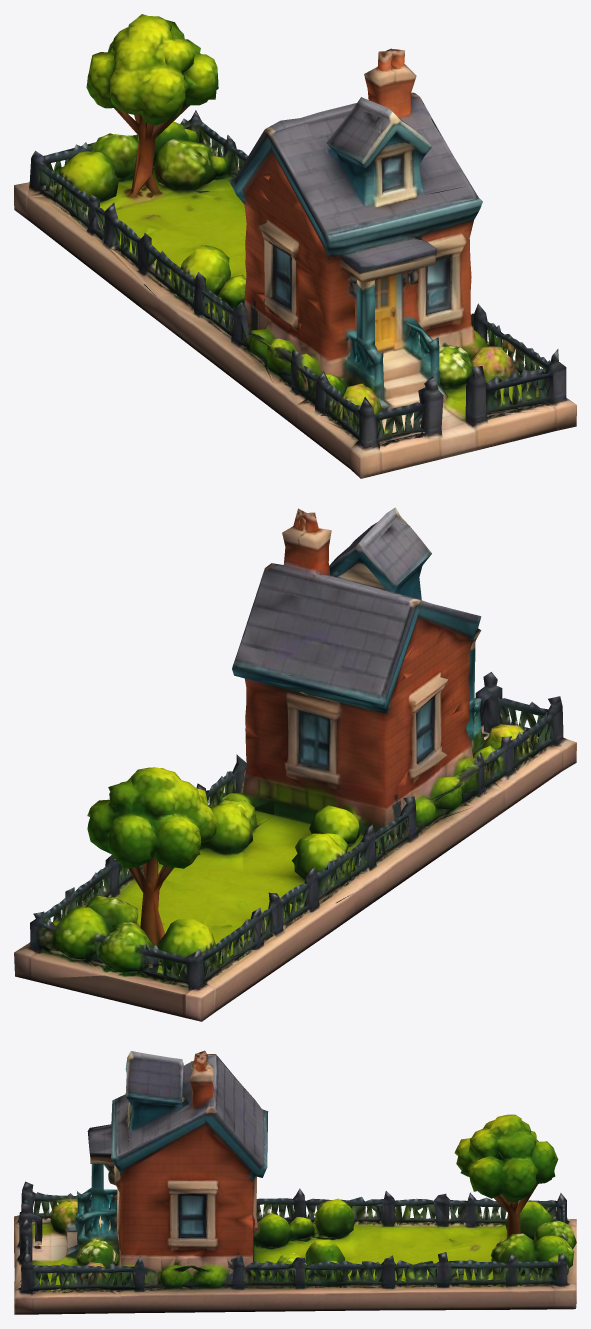
Rendered from house-tiny.glb.
3 views of the same model, one above another, from view 1: azimuth 30°, elevation 25°; view 2: azimuth 150°, elevation 25°; view 3: azimuth 270°, elevation 25° (orthographic). The views are drawn at different scales.
Parts seen in each view (by area): view 1: low; view 2: low; view 3: low.
Part boxes in pixels (x1,y1,x2,y2): low: (14,14,576,478); low: (14,507,576,1021); low: (14,1050,576,1314).
Bounding box in the file's own units: 0.3401 × 0.4519 × 0.9782.
1 material, 1 textured.
